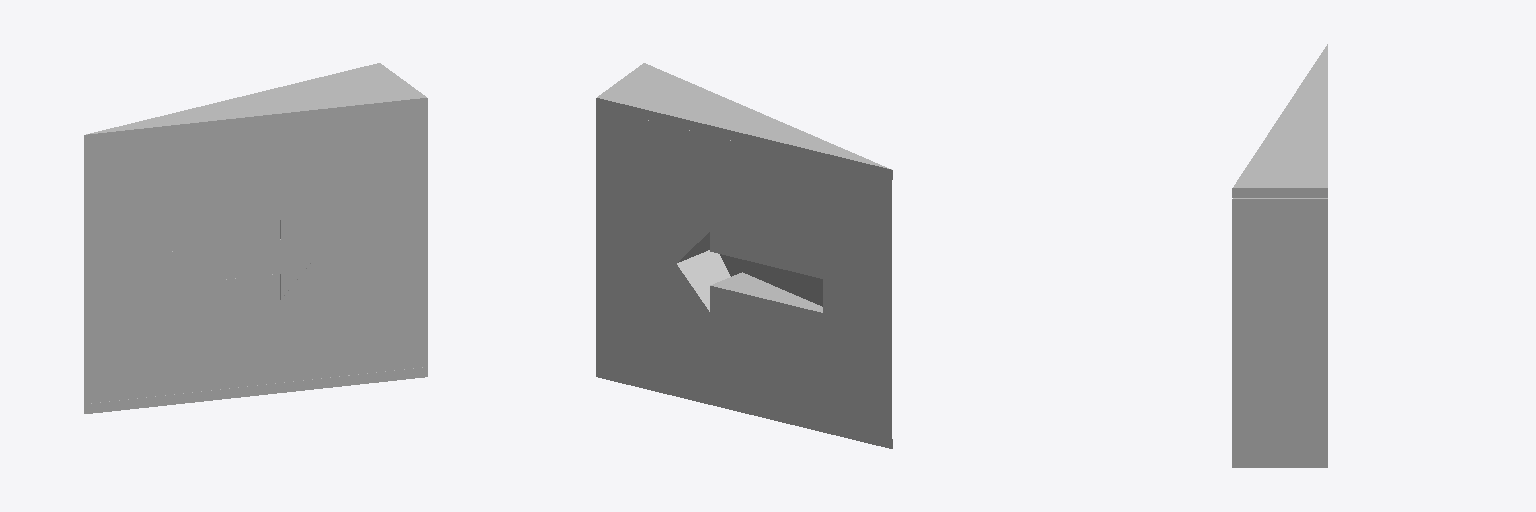
The model's file is model ramp.obj.
3 renders of one model, left to right at view 1: azimuth 30°, elevation 25°; view 2: azimuth 150°, elevation 25°; view 3: azimuth 270°, elevation 25°, orthographic.
Visible parts, largest first — view 1: obj_0; view 2: obj_0; view 3: obj_0.
Boxes of the visible parts, <box> form: obj_0: <box>84,63,427,413</box>; obj_0: <box>596,63,892,448</box>; obj_0: <box>1232,44,1327,467</box>.
Bounding box in the file's own units: 61.16 × 55 × 17.